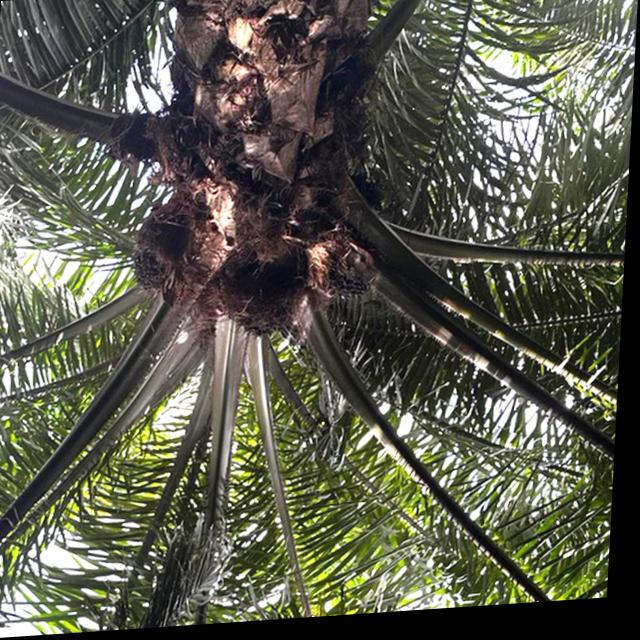unripe: (303, 236, 388, 310), (128, 238, 180, 296)
